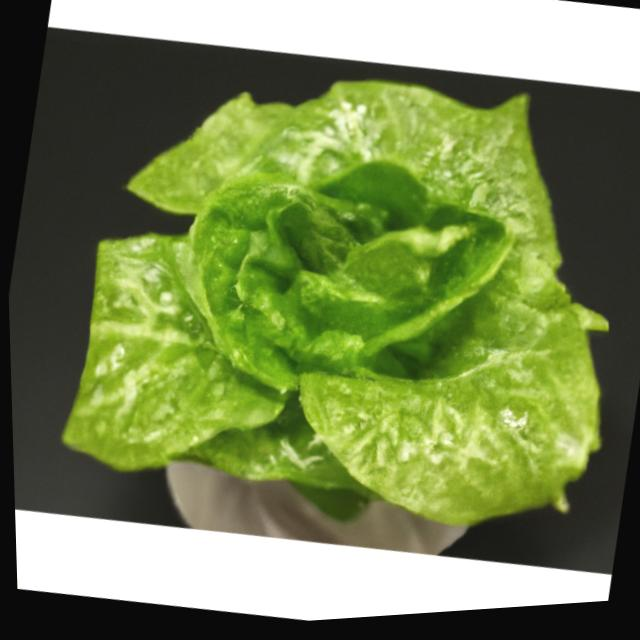-N: (31, 6, 640, 583)
